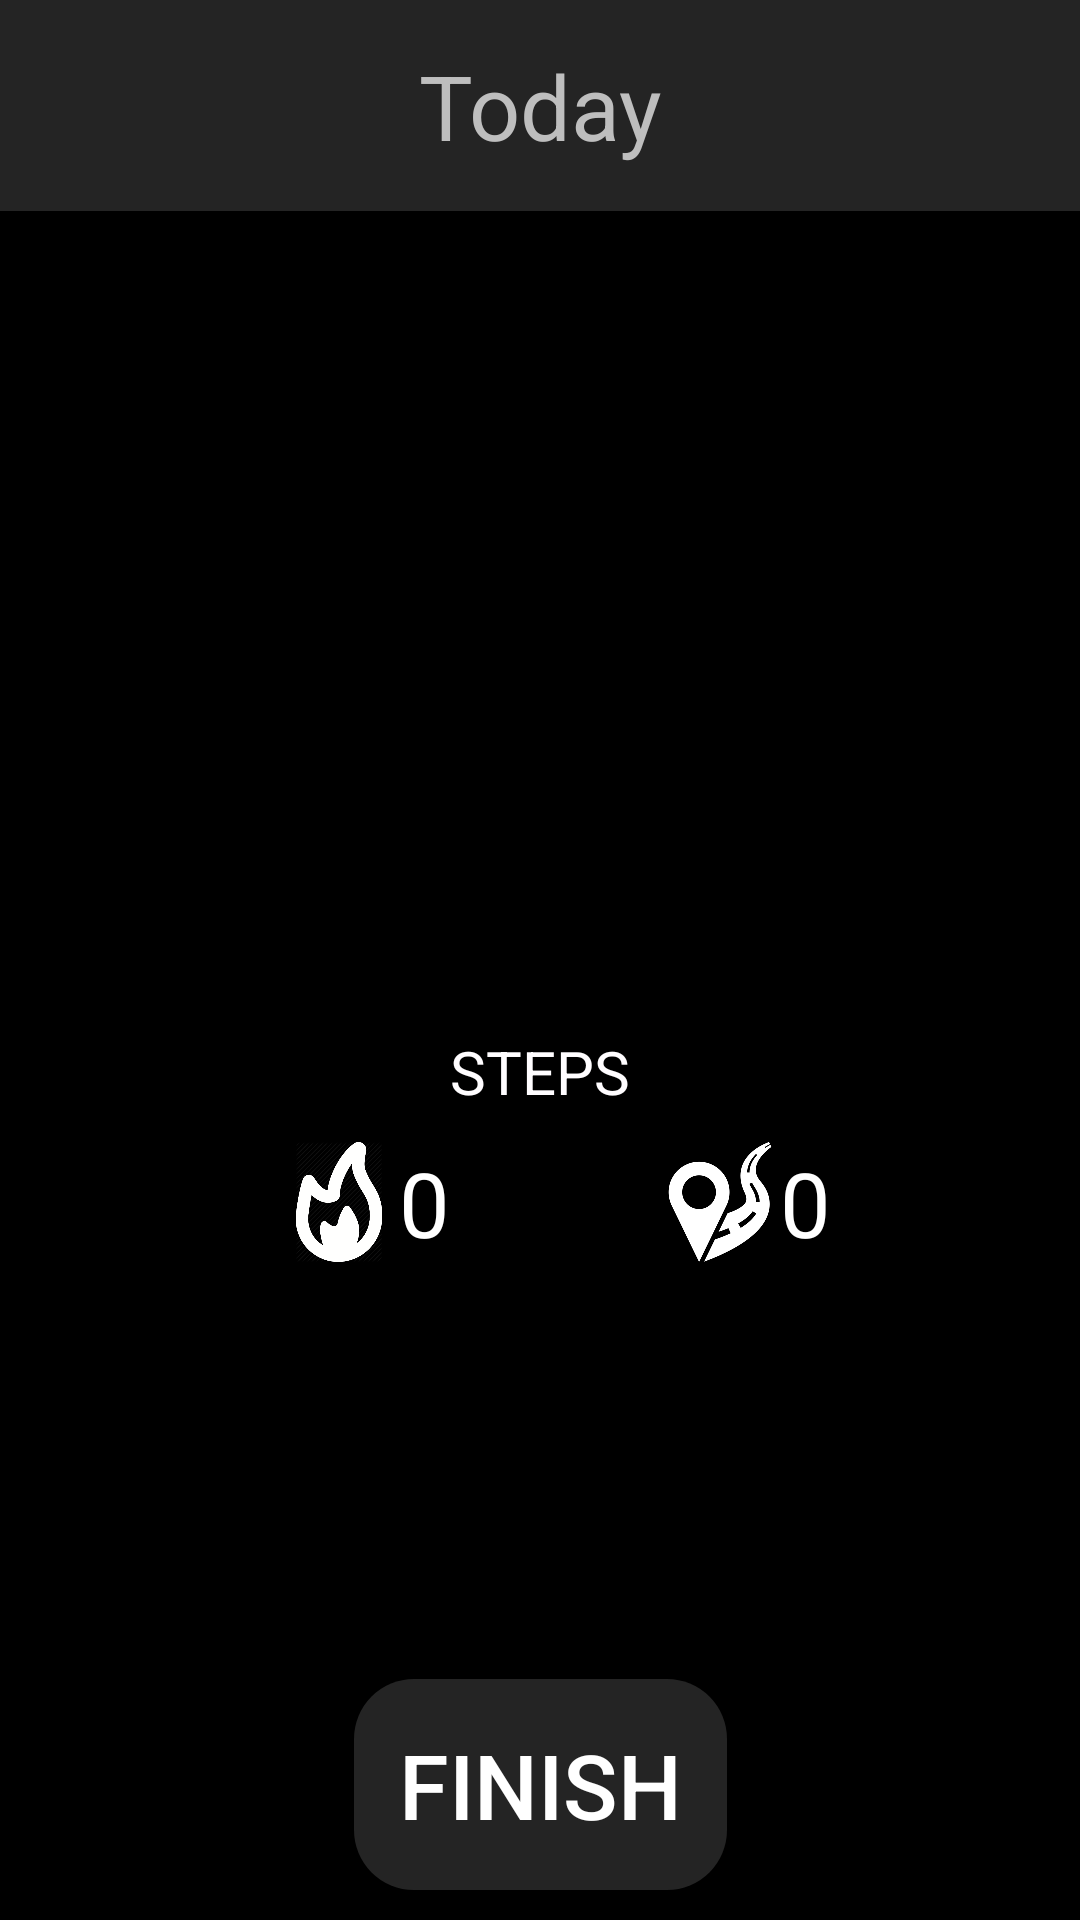

Icon click points for this 1080x1920 phone screenshot, format (x,y):
calories: (339,1202)
distance: (719,1202)
